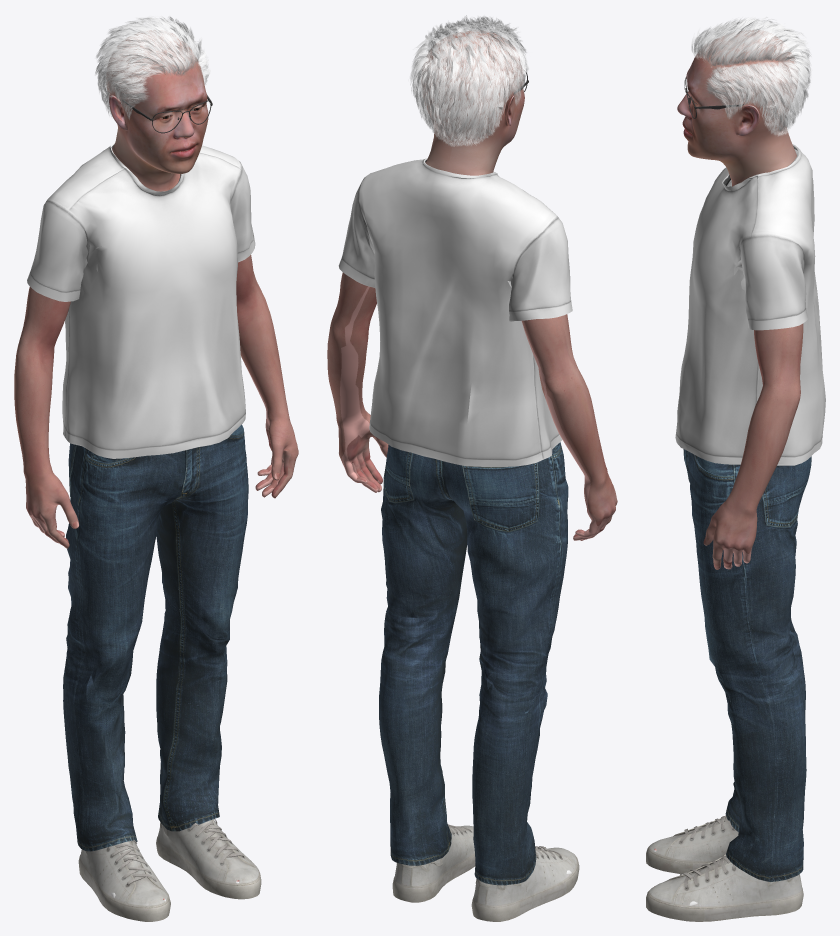
Rendered from xf_trapped_man.glb.
3 renders of one model, left to right at view 1: azimuth 30°, elevation 25°; view 2: azimuth 150°, elevation 25°; view 3: azimuth 270°, elevation 25°, orthographic. The views are drawn at different scales.
Parts seen in each view (by area): view 1: Object_8, Object_7, Object_3, Object_4, Object_9, Object_2; view 2: Object_8, Object_7, Object_3, Object_2, Object_9, Object_4; view 3: Object_8, Object_7, Object_4, Object_9, Object_3, Object_2.
Boxes of the visible parts, box(x1,y1,x2,y2) form: Object_8: box(63, 424, 248, 851); Object_7: box(27, 141, 255, 458); Object_3: box(14, 255, 298, 547); Object_4: box(106, 30, 208, 191); Object_9: box(78, 819, 261, 921); Object_2: box(95, 16, 210, 119); Object_8: box(379, 442, 568, 885); Object_7: box(338, 158, 572, 467); Object_3: box(327, 272, 617, 540); Object_2: box(410, 15, 529, 146); Object_9: box(392, 824, 579, 921); Object_4: box(421, 30, 524, 175); Object_8: box(683, 449, 811, 881); Object_7: box(675, 144, 825, 465); Object_4: box(677, 30, 797, 186); Object_9: box(646, 815, 803, 921); Object_3: box(704, 323, 803, 569); Object_2: box(691, 17, 811, 136).
Bounding box in the file's own units: 57.26 × 176 × 33.27.
20 materials, 14 textured.
